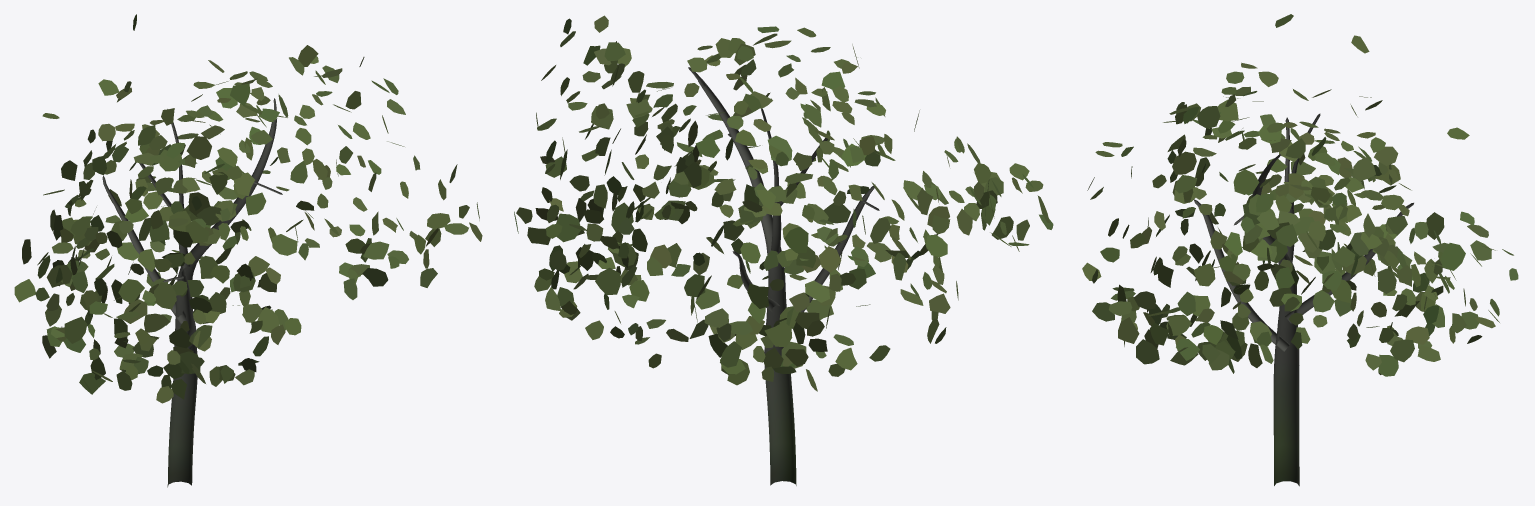
File: SM_TreeFar_ash_3.glb
The picture shows the model from 3 angles, left to right: view 1: azimuth 30°, elevation 25°; view 2: azimuth 150°, elevation 25°; view 3: azimuth 270°, elevation 25°; orthographic projection. The views are drawn at different scales.
Visible parts, largest first — view 1: SM_TreeFar_ash_3; view 2: SM_TreeFar_ash_3; view 3: SM_TreeFar_ash_3.
Part boxes in pixels (x1,y1,x2,y2): SM_TreeFar_ash_3: (14,14,482,487); SM_TreeFar_ash_3: (514,15,1053,485); SM_TreeFar_ash_3: (1082,14,1518,486).
Size of the model in its own units: 15.62 by 14.94 by 13.04.
